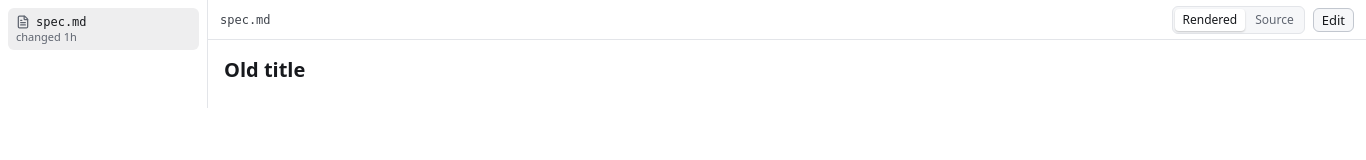
Test: DocsTab › edits the raw text and shows the saved text rendered
This screenshot has width=1366, height=160.
Expected: the heading "Old title" is shown, x1=224 y1=56 x2=305 y2=83
Click the button "Edit": coordinates (1333, 20) x1=1313 y1=8 x2=1354 y2=32
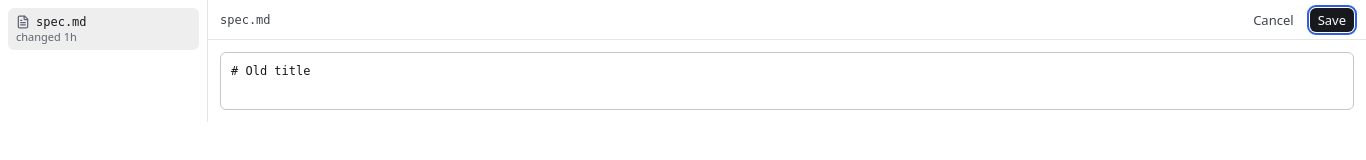
Replace the text in the text box named "Text of spec.md" with "# New title": coordinates (787, 81) x1=220 y1=52 x2=1354 y2=110
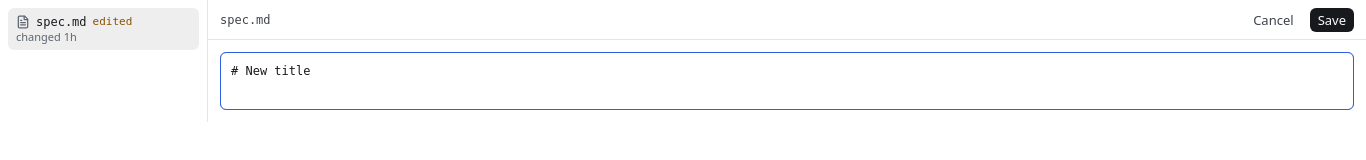
Click the button "Save": coordinates (1332, 20) x1=1310 y1=8 x2=1354 y2=32
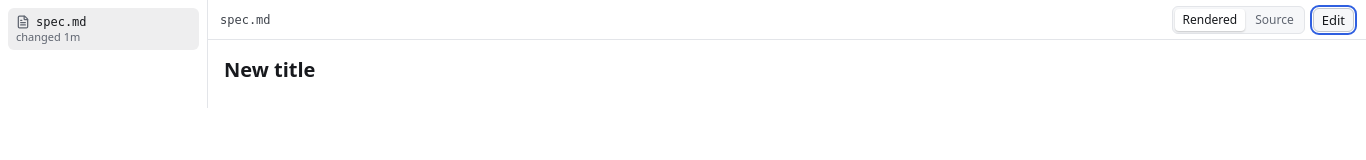
Expected: the heading "New title" is shown, x1=224 y1=56 x2=315 y2=83
Expected: the element named "Show the file" is shown, x1=1172 y1=6 x2=1305 y2=34
